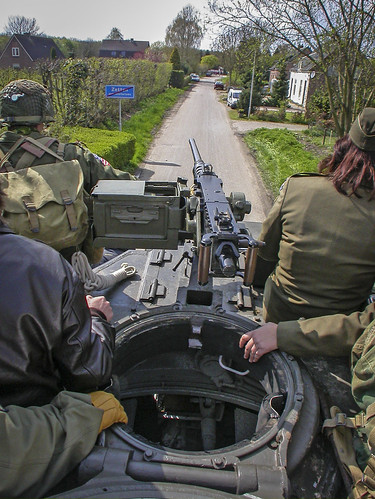building: (4, 35, 69, 66), (98, 38, 150, 58)
road: (146, 74, 255, 219)
sky: (8, 1, 234, 44)
soldier: (267, 109, 375, 313), (1, 83, 103, 254)
tree: (241, 1, 375, 124), (163, 3, 210, 70)
weapon: (98, 149, 266, 314)
